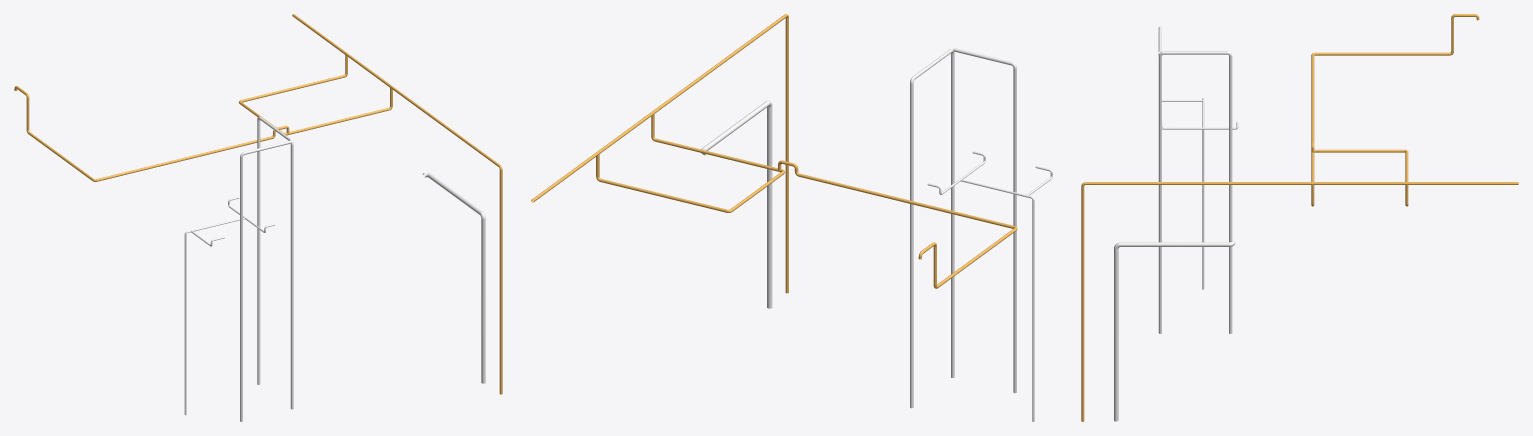
The picture shows the model from 3 angles, left to right: view 1: azimuth 30°, elevation 25°; view 2: azimuth 150°, elevation 25°; view 3: azimuth 270°, elevation 25°; orthographic projection. The views are drawn at different scales.
Parts seen in each view (by area): view 1: SM_I_RoadFacility_Pipe_T_07A; view 2: SM_I_RoadFacility_Pipe_T_07A; view 3: SM_I_RoadFacility_Pipe_T_07A.
Boxes of the visible parts, x1=… form: SM_I_RoadFacility_Pipe_T_07A: x1=14, y1=14, x2=502, y2=421; SM_I_RoadFacility_Pipe_T_07A: x1=531, y1=14, x2=1052, y2=421; SM_I_RoadFacility_Pipe_T_07A: x1=1081, y1=14, x2=1518, y2=421.
Bounding box in the file's own units: 2255 × 1870 × 1603.
